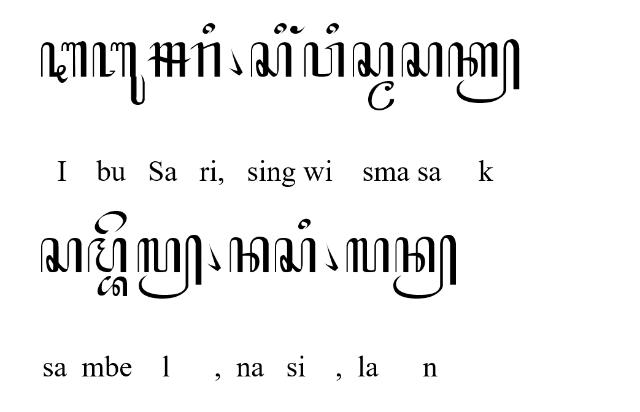-k: (448, 38, 520, 104)
-l: (138, 234, 202, 300)
-n: (394, 234, 456, 300)
I: (40, 41, 86, 83)
S: (147, 42, 191, 78)
_b: (97, 276, 127, 296)
_m: (368, 81, 394, 112)
bu: (92, 42, 146, 106)
e: (95, 211, 127, 235)
i: (274, 22, 288, 34), (202, 22, 215, 34), (326, 22, 338, 34), (298, 218, 310, 230)
kom: (207, 242, 221, 272), (229, 47, 243, 75), (324, 243, 338, 271)
l: (346, 237, 389, 273)
m: (87, 237, 127, 273)
n: (230, 237, 270, 273)
ng: (290, 25, 306, 34)
r: (190, 41, 222, 76)
s: (250, 41, 292, 77), (401, 42, 443, 78), (40, 237, 82, 273), (352, 42, 393, 78), (274, 237, 316, 272)
w: (304, 42, 344, 78)
